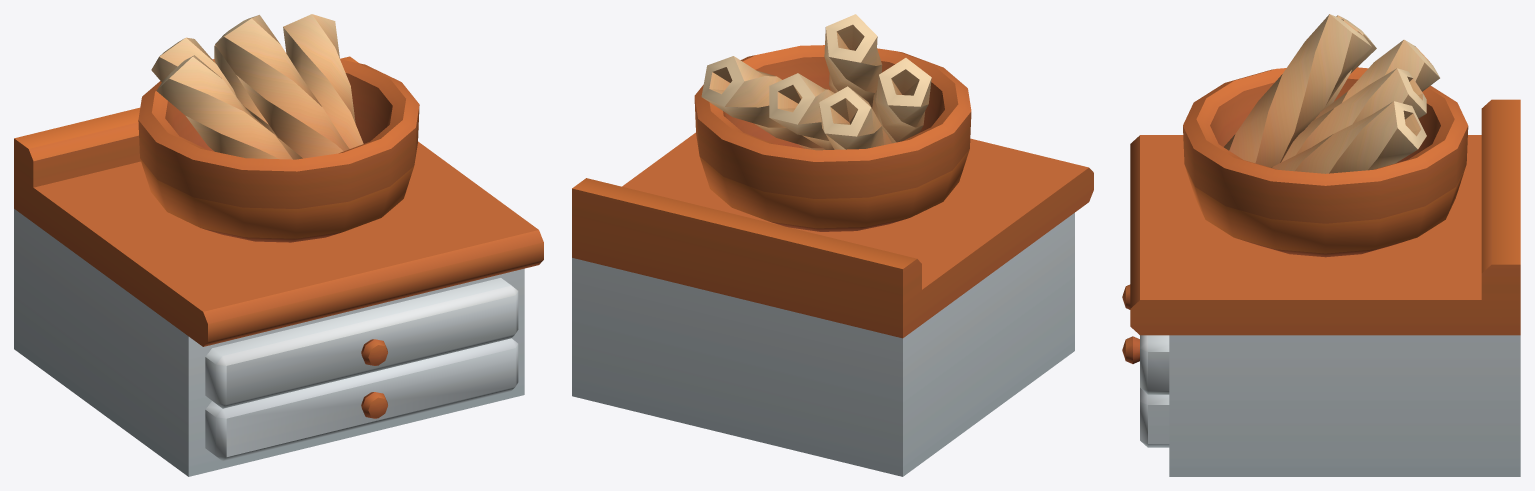
File: cookie_stick_counter.glb
3 views of the same model, side by side, from view 1: azimuth 30°, elevation 25°; view 2: azimuth 150°, elevation 25°; view 3: azimuth 270°, elevation 25° (orthographic). The views are drawn at different scales.
Visible parts, largest first — view 1: kitchencounter_straight_A_backsplash, icecream_bowl_cookiesticks; view 2: kitchencounter_straight_A_backsplash, icecream_bowl_cookiesticks; view 3: kitchencounter_straight_A_backsplash, icecream_bowl_cookiesticks.
Boxes of the visible parts, x1,y1,x2,y2 form: kitchencounter_straight_A_backsplash: [14, 56, 543, 476]; icecream_bowl_cookiesticks: [138, 14, 419, 242]; kitchencounter_straight_A_backsplash: [572, 132, 1093, 476]; icecream_bowl_cookiesticks: [694, 14, 971, 231]; kitchencounter_straight_A_backsplash: [1122, 99, 1520, 476]; icecream_bowl_cookiesticks: [1183, 14, 1468, 257].
Bounding box in the file's own units: 2 × 2.08 × 2.04.
1 material, 1 textured.
